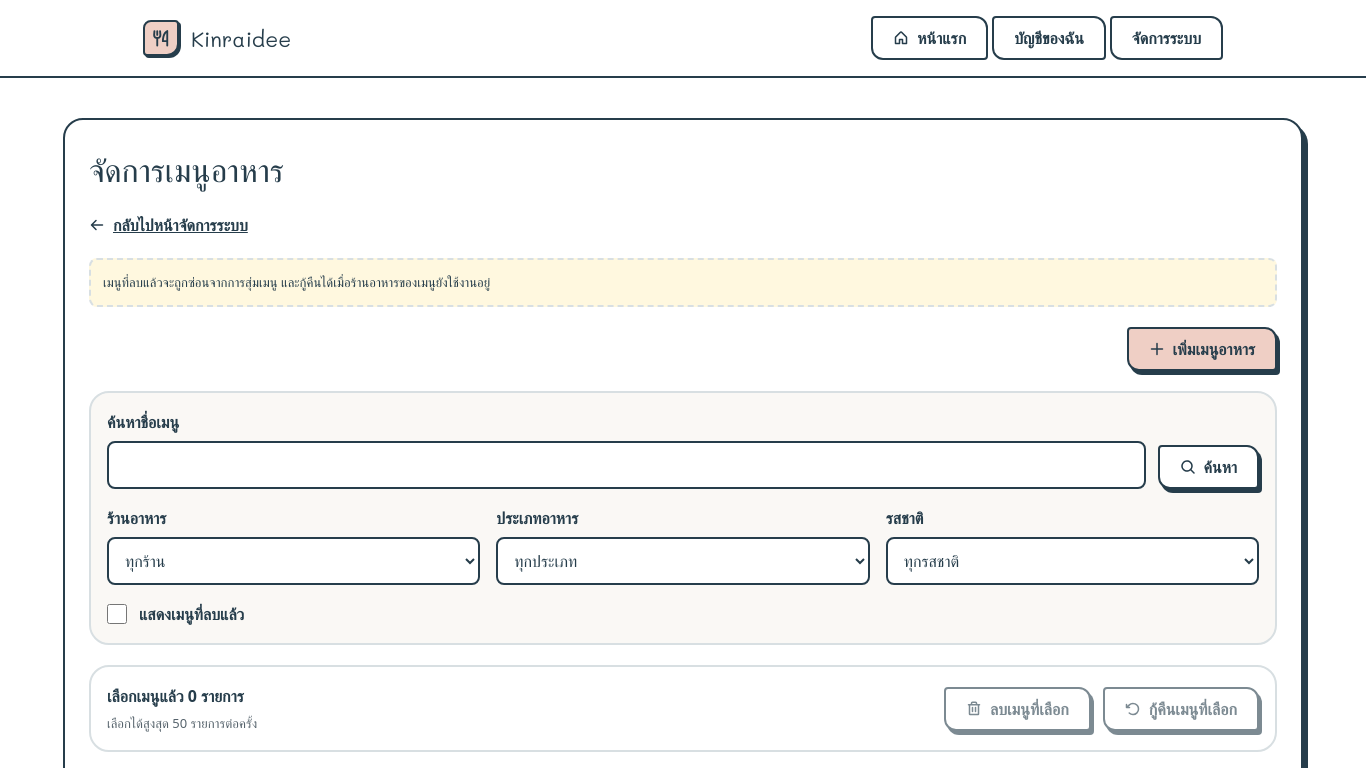
Test: MenuItemsPage create and edit › rejects the price 12.5
Click the button "เพิ่มเมนูอาหาร": {"x": 1202, "y": 349} [1126,327,1277,371]
(page scrolled)
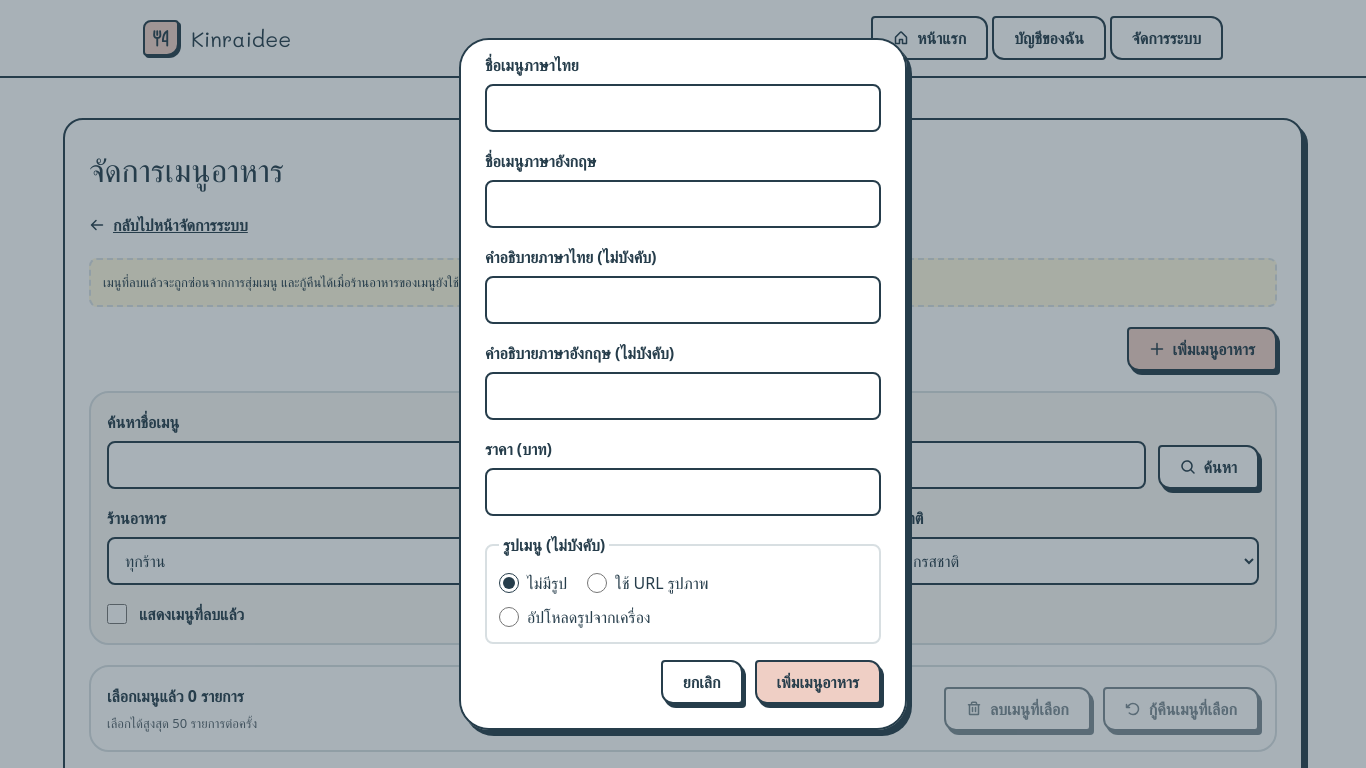
In the field labelled "ราคา (บาท)": {"x": 683, "y": 492} [485,468,881,516], type "12.5"
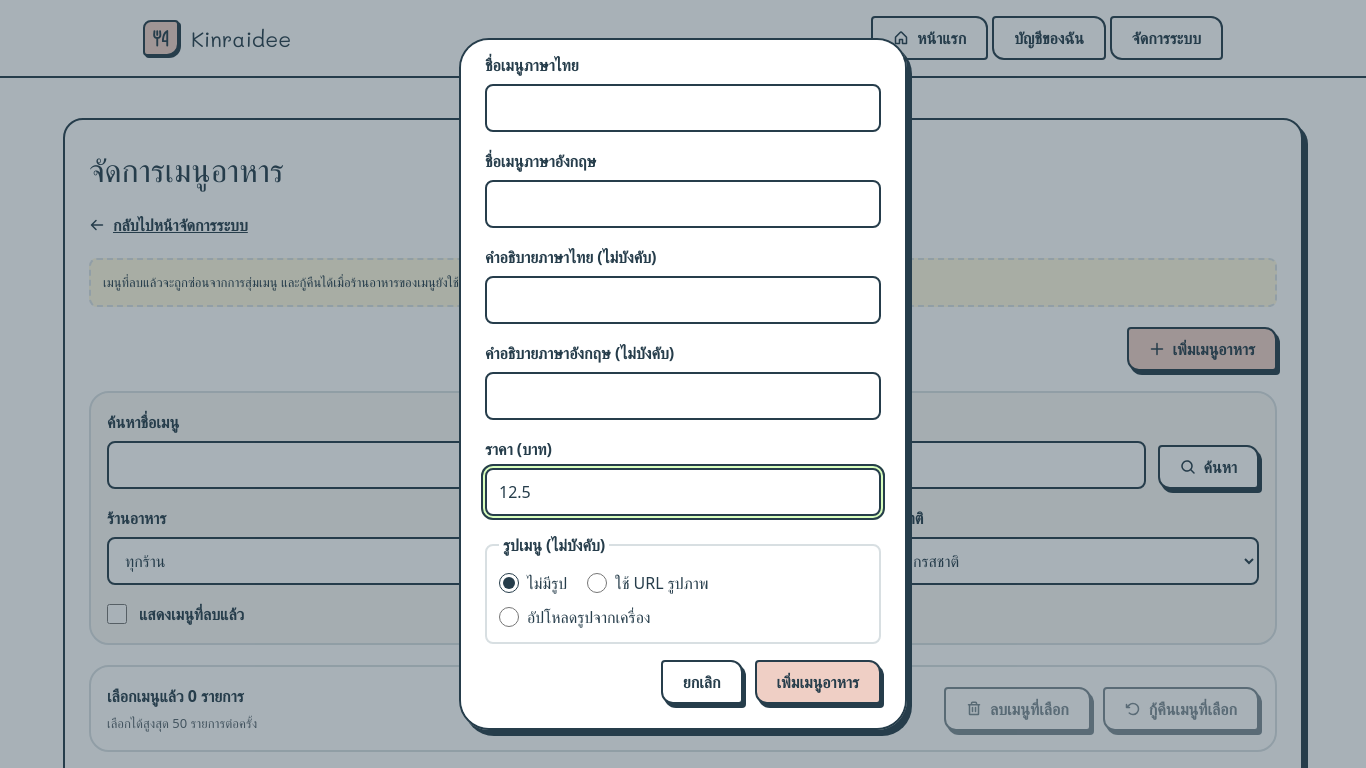
Click the button "เพิ่มเมนูอาหาร": {"x": 818, "y": 682} [754,660,881,704]
(page scrolled)
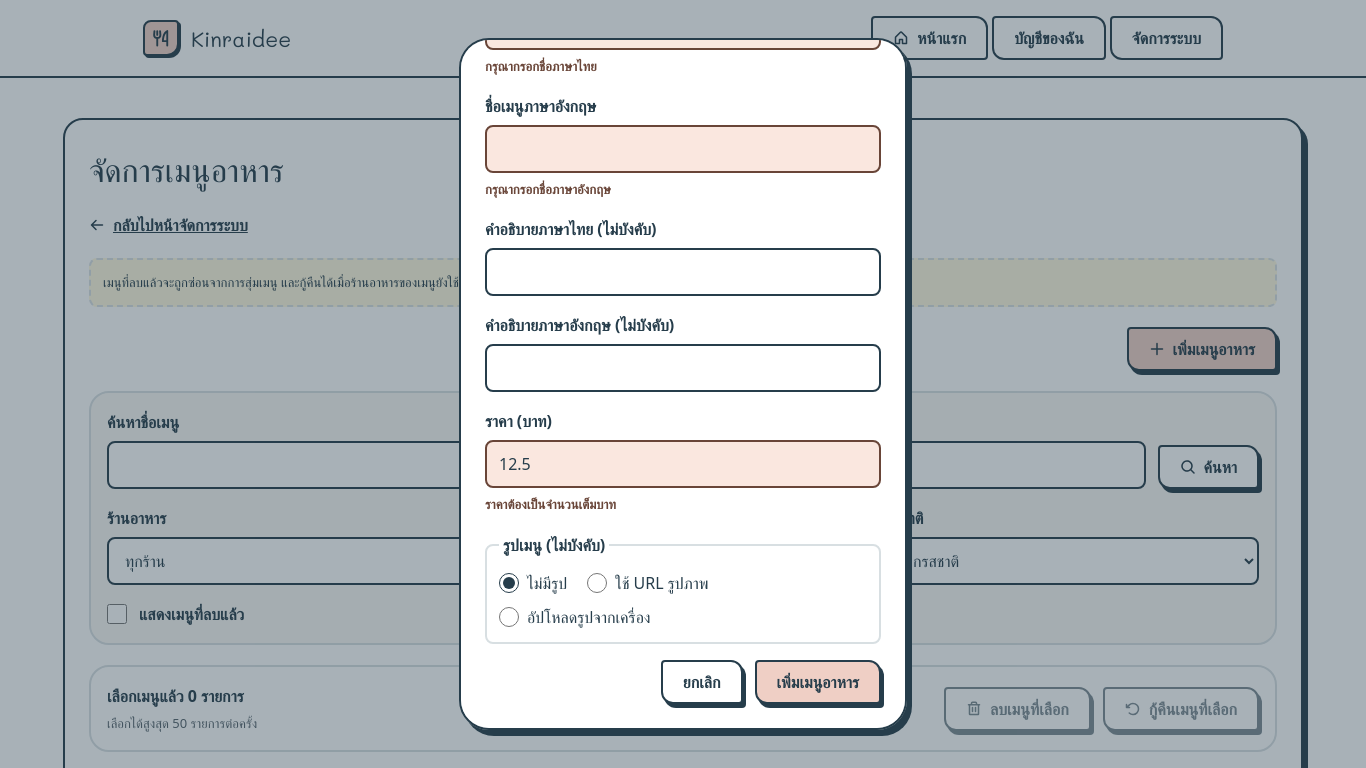
Now the text "ราคาต้องเป็นจำนวนเต็มบาท" is shown, box [485,495,616,513]
